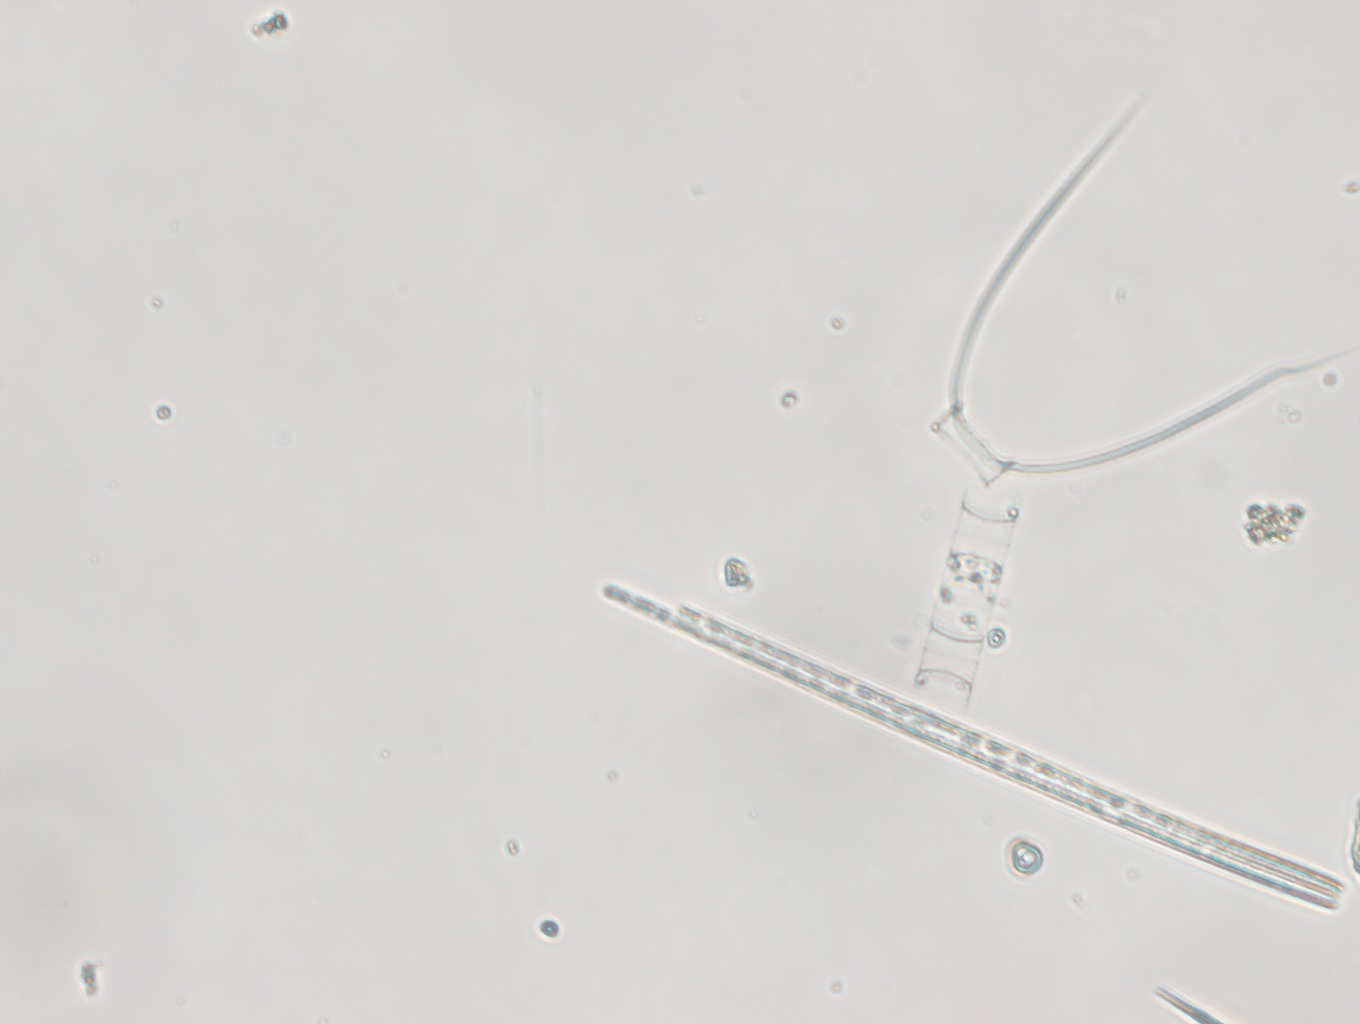chaetoceros: (929, 74, 1360, 489)
skeletonema: (911, 493, 1029, 715)
thalassionema frauenfeldii: (581, 572, 1348, 915)
